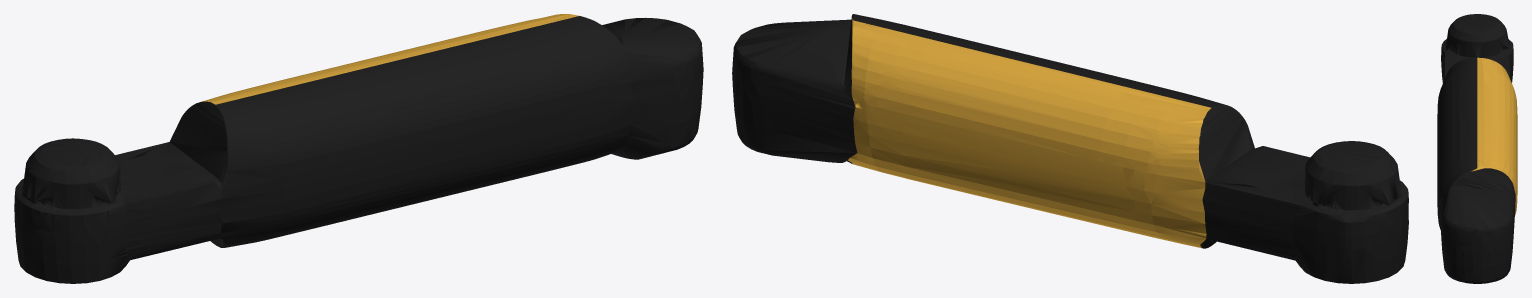
Rendered from arm_link_sh1.obj.
3 renders of one model, left to right at view 1: azimuth 30°, elevation 25°; view 2: azimuth 150°, elevation 25°; view 3: azimuth 270°, elevation 25°, orthographic. The views are drawn at different scales.
Visible parts, largest first — view 1: arm0.link_hr0.003_BlackAbs, arm0.link_hr0.003_wrap; view 2: arm0.link_hr0.003_wrap, arm0.link_hr0.003_BlackAbs; view 3: arm0.link_hr0.003_BlackAbs, arm0.link_hr0.003_wrap.
Boxes of the visible parts, left/top/right/bottom form: arm0.link_hr0.003_BlackAbs: left=14, top=16, right=703, bottom=283; arm0.link_hr0.003_wrap: left=203, top=14, right=579, bottom=104; arm0.link_hr0.003_wrap: left=848, top=17, right=1211, bottom=248; arm0.link_hr0.003_BlackAbs: left=732, top=14, right=1408, bottom=283; arm0.link_hr0.003_BlackAbs: left=1437, top=14, right=1515, bottom=283; arm0.link_hr0.003_wrap: left=1471, top=57, right=1517, bottom=215.
Size of the model in its own units: 0.3984 by 0.0824 by 0.0661.
